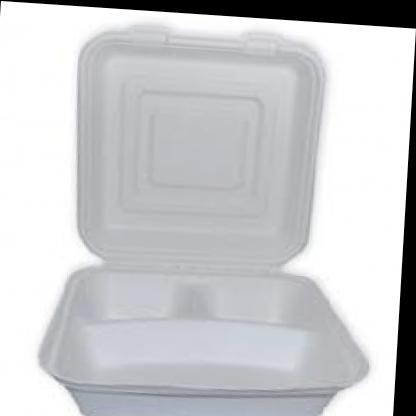Miscellaneous: (23, 18, 394, 416)
